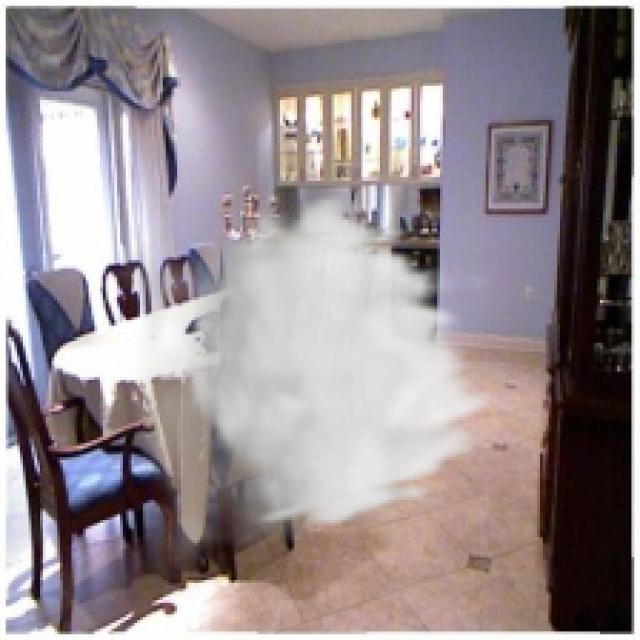Smoke: (108, 191, 503, 600)
